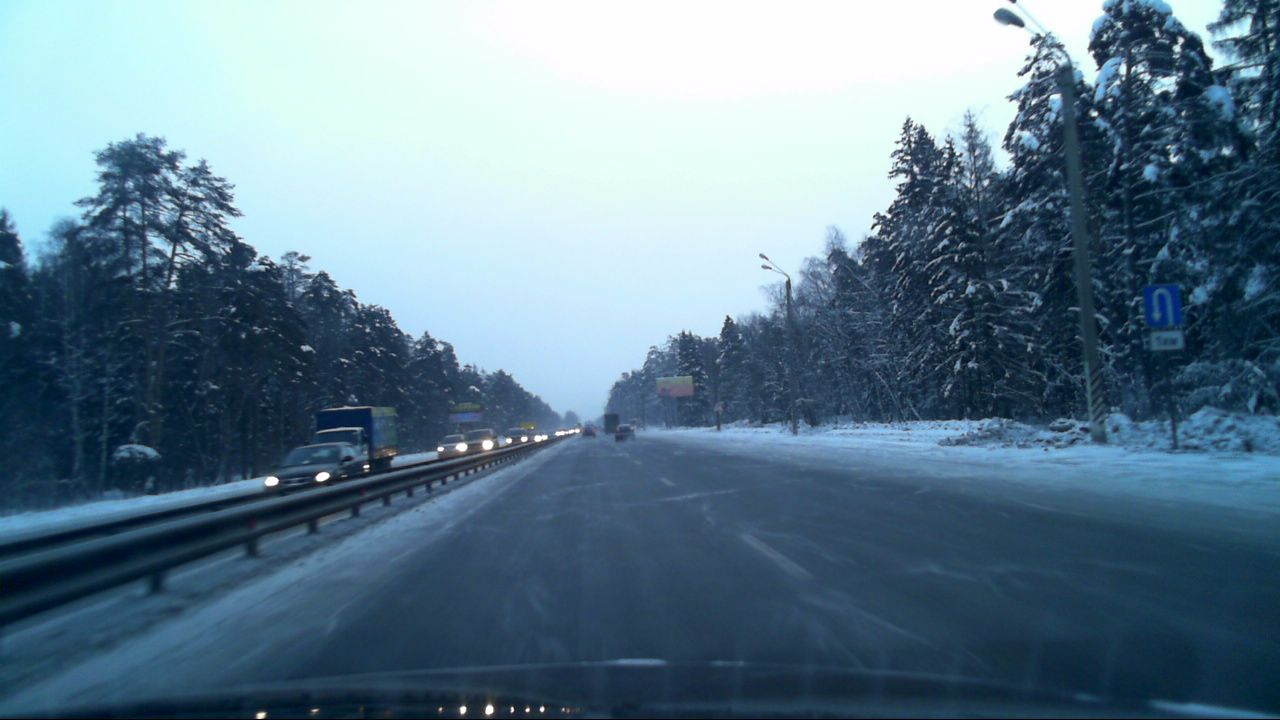U-turn: (1144, 282, 1181, 329)
